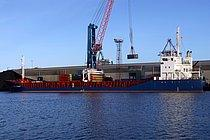Ship: (1, 18, 210, 98)
